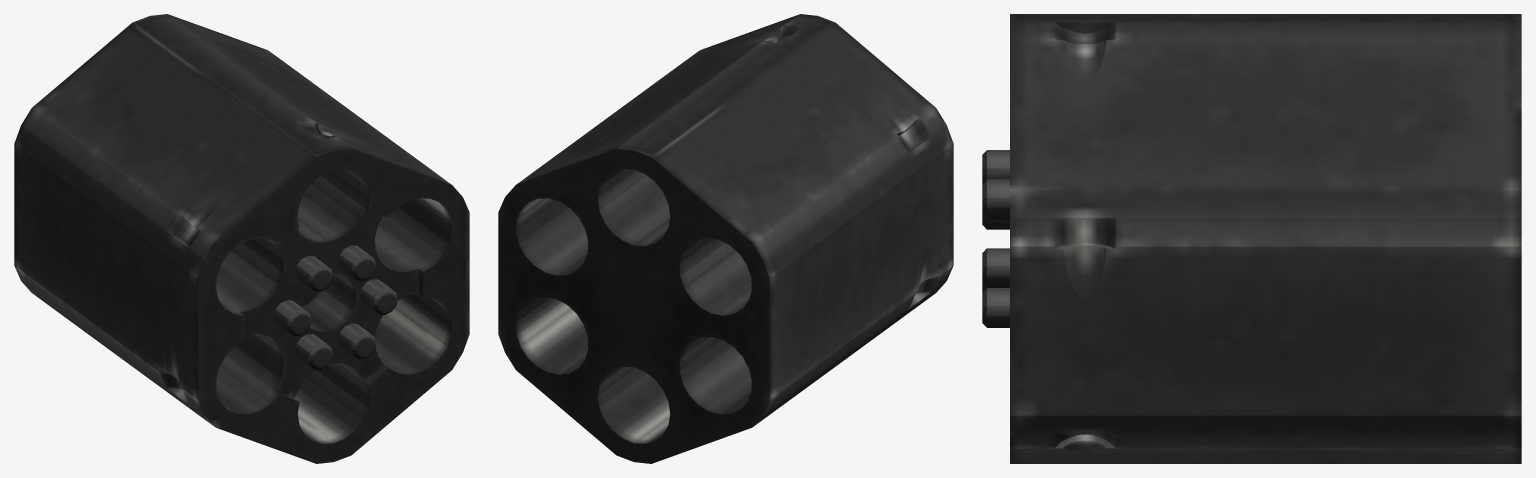
3 views of the same model, side by side, from view 1: azimuth 30°, elevation 25°; view 2: azimuth 150°, elevation 25°; view 3: azimuth 270°, elevation 25° (orthographic). The views are drawn at different scales.
Parts seen in each view (by area): view 1: TW_624c3074dbbd335e8e6becf3_PZ_Import; view 2: TW_624c3074dbbd335e8e6becf3_PZ_Import; view 3: TW_624c3074dbbd335e8e6becf3_PZ_Import.
Boxes of the visible parts, box(x1,y1,x2,y2) form: TW_624c3074dbbd335e8e6becf3_PZ_Import: box(14, 14, 469, 463); TW_624c3074dbbd335e8e6becf3_PZ_Import: box(498, 14, 953, 463); TW_624c3074dbbd335e8e6becf3_PZ_Import: box(982, 14, 1521, 463).
Size of the model in its own units: 0.0208 by 0.0258 by 0.0228.
1 material, 1 textured.
